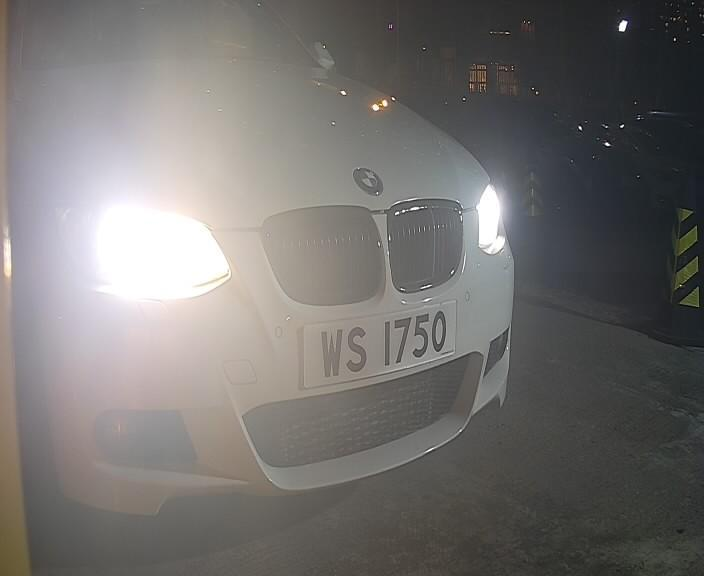privatecar: (1, 59, 533, 504)
